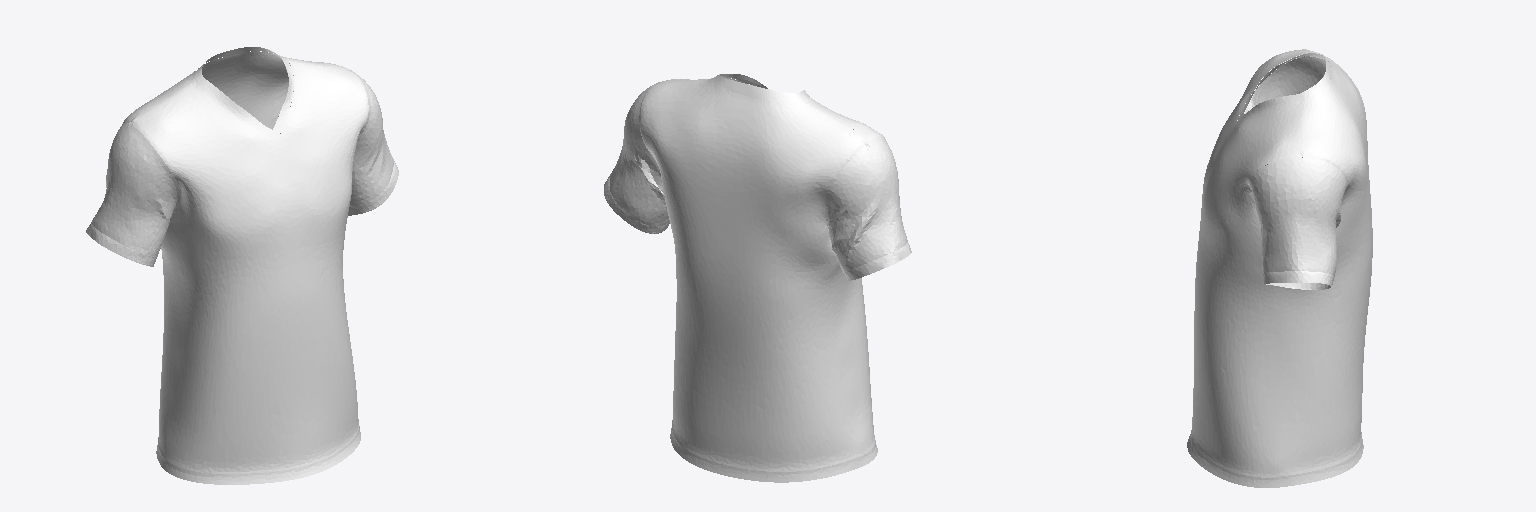
Rendered from nonunified.obj.
3 renders of one model, left to right at view 1: azimuth 30°, elevation 25°; view 2: azimuth 150°, elevation 25°; view 3: azimuth 270°, elevation 25°, orthographic.
Parts seen in each view (by area): view 1: Merged_Meshes; view 2: Merged_Meshes; view 3: Merged_Meshes.
Part boxes in pixels (x1,y1,x2,y2): Merged_Meshes: (86,47,398,484); Merged_Meshes: (604,74,911,482); Merged_Meshes: (1187,49,1372,487).
Bounding box in the file's own units: 0.5831 × 0.704 × 0.3123.